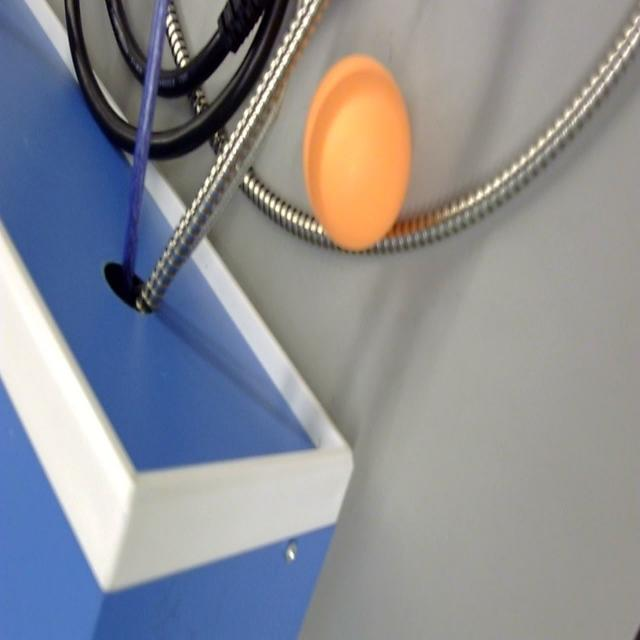ball: (303, 51, 413, 256)
